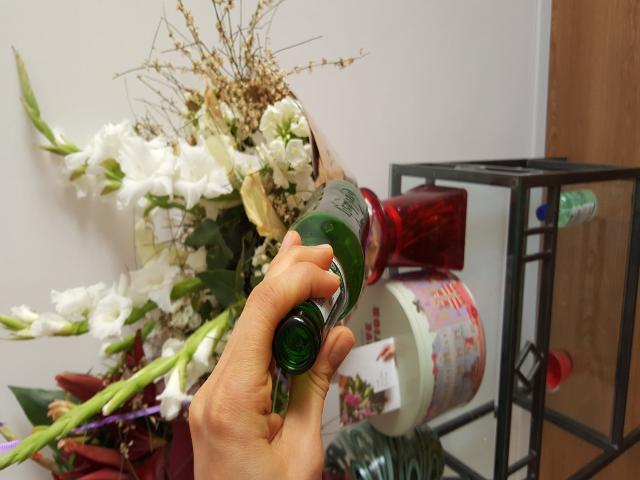beer: (273, 179, 370, 374)
